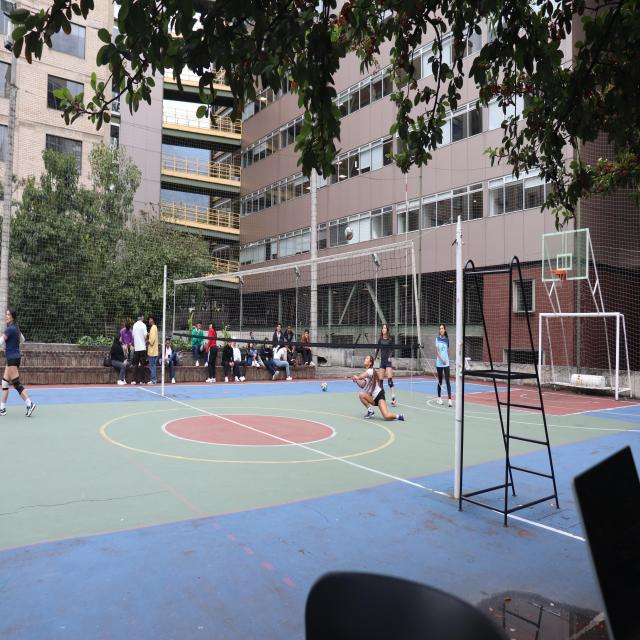volleyball: (344, 227, 354, 240), (322, 382, 328, 391)
